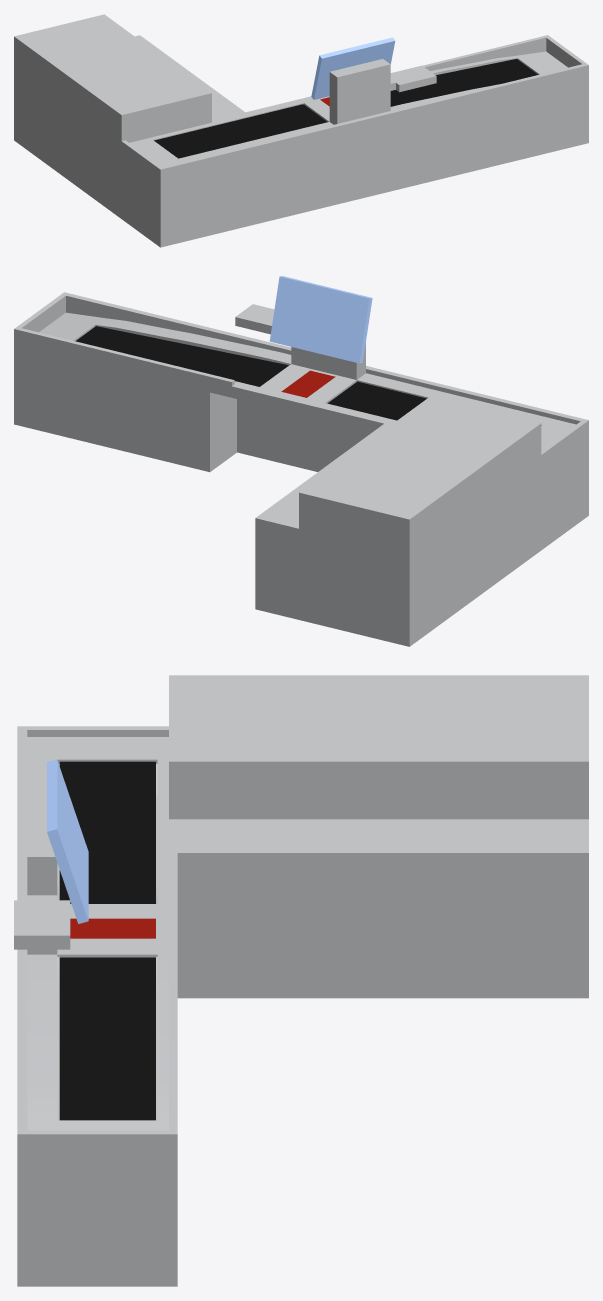
Rendered from Register.fbx.
3 renders of one model, top to bottom at view 1: azimuth 30°, elevation 25°; view 2: azimuth 150°, elevation 25°; view 3: azimuth 270°, elevation 25°, orthographic. The views are drawn at different scales.
Parts seen in each view (by area): view 1: Base, Belt1, Belt002, Screen; view 2: Base, Screen, Belt002, Belt1, Beeper; view 3: Base, Belt002, Belt1, Screen, Beeper.
Boxes of the visible parts, left/top/right/bottom form: Base: left=14, top=14, right=588, bottom=247; Belt1: left=154, top=104, right=327, bottom=158; Belt002: left=390, top=59, right=537, bottom=106; Screen: left=311, top=37, right=395, bottom=99; Base: left=14, top=292, right=588, bottom=646; Screen: left=269, top=276, right=372, bottom=363; Belt002: left=75, top=326, right=288, bottom=386; Belt1: left=327, top=381, right=426, bottom=420; Beeper: left=281, top=370, right=335, bottom=397; Base: left=14, top=675, right=588, bottom=1286; Belt002: left=59, top=957, right=155, bottom=1120; Belt1: left=59, top=761, right=155, bottom=903; Screen: left=47, top=759, right=88, bottom=923; Beeper: left=70, top=918, right=155, bottom=938.
Size of the model in its own units: 60.21 by 19.28 by 35.86.
